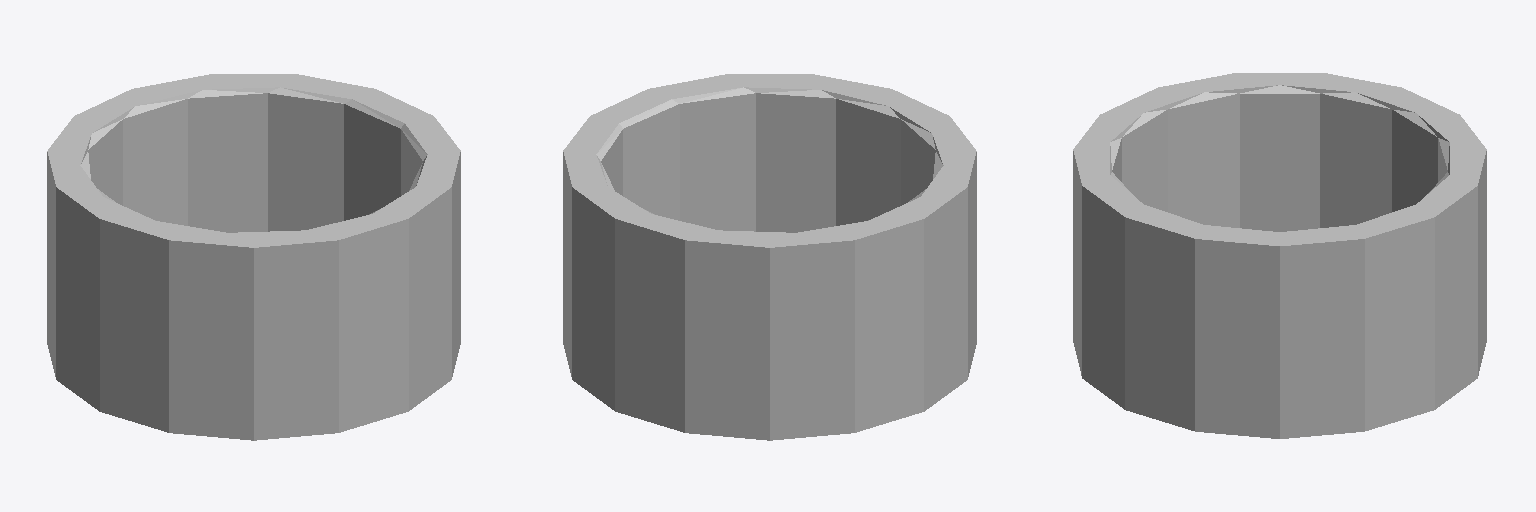
Rendered from 74. Кольцо распорное.obj.
3 views of the same model, side by side, from view 1: azimuth 30°, elevation 25°; view 2: azimuth 150°, elevation 25°; view 3: azimuth 270°, elevation 25° (orthographic).
Visible parts, largest first — view 1: Твердое тело1; view 2: Твердое тело1; view 3: Твердое тело1.
Part boxes in pixels (x1,y1,x2,y2): Твердое тело1: (47, 74, 460, 440); Твердое тело1: (563, 74, 976, 440); Твердое тело1: (1073, 73, 1486, 438).
Bounding box in the file's own units: 42.53 × 22 × 42.76.